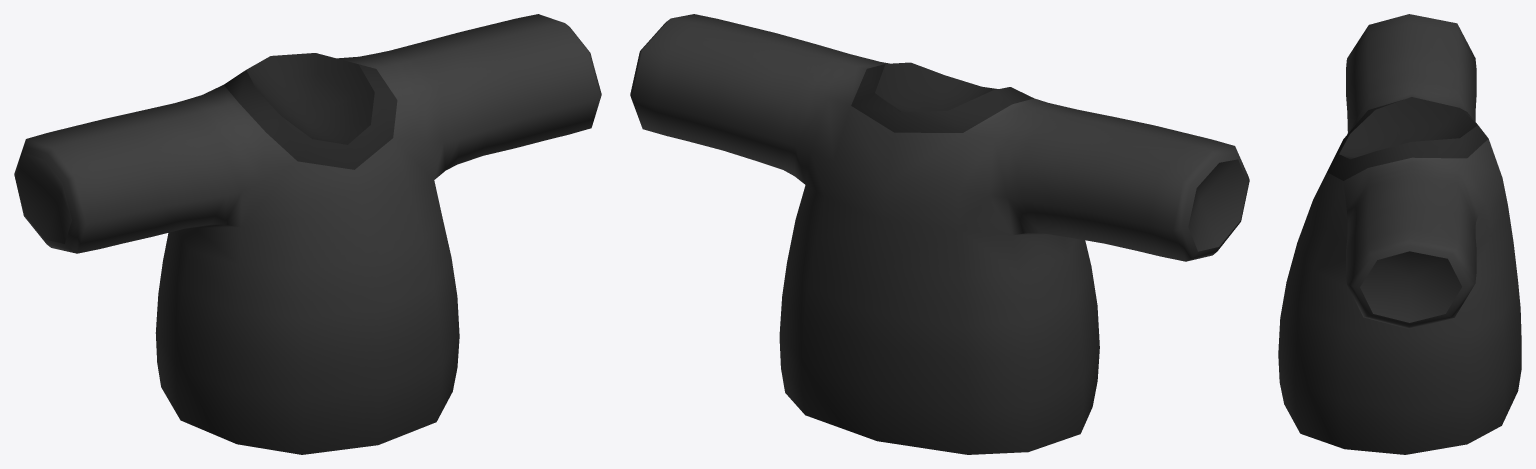
File: Top_09.fbx
3 views of the same model, side by side, from view 1: azimuth 30°, elevation 25°; view 2: azimuth 150°, elevation 25°; view 3: azimuth 270°, elevation 25° (orthographic). The views are drawn at different scales.
Parts seen in each view (by area): view 1: Top_09; view 2: Top_09; view 3: Top_09.
Boxes of the visible parts, x1,y1,x2,y2 form: Top_09: (14, 14, 601, 454); Top_09: (630, 14, 1249, 454); Top_09: (1278, 14, 1521, 454).
Size of the model in its own units: 80.71 by 46.22 by 35.79.
